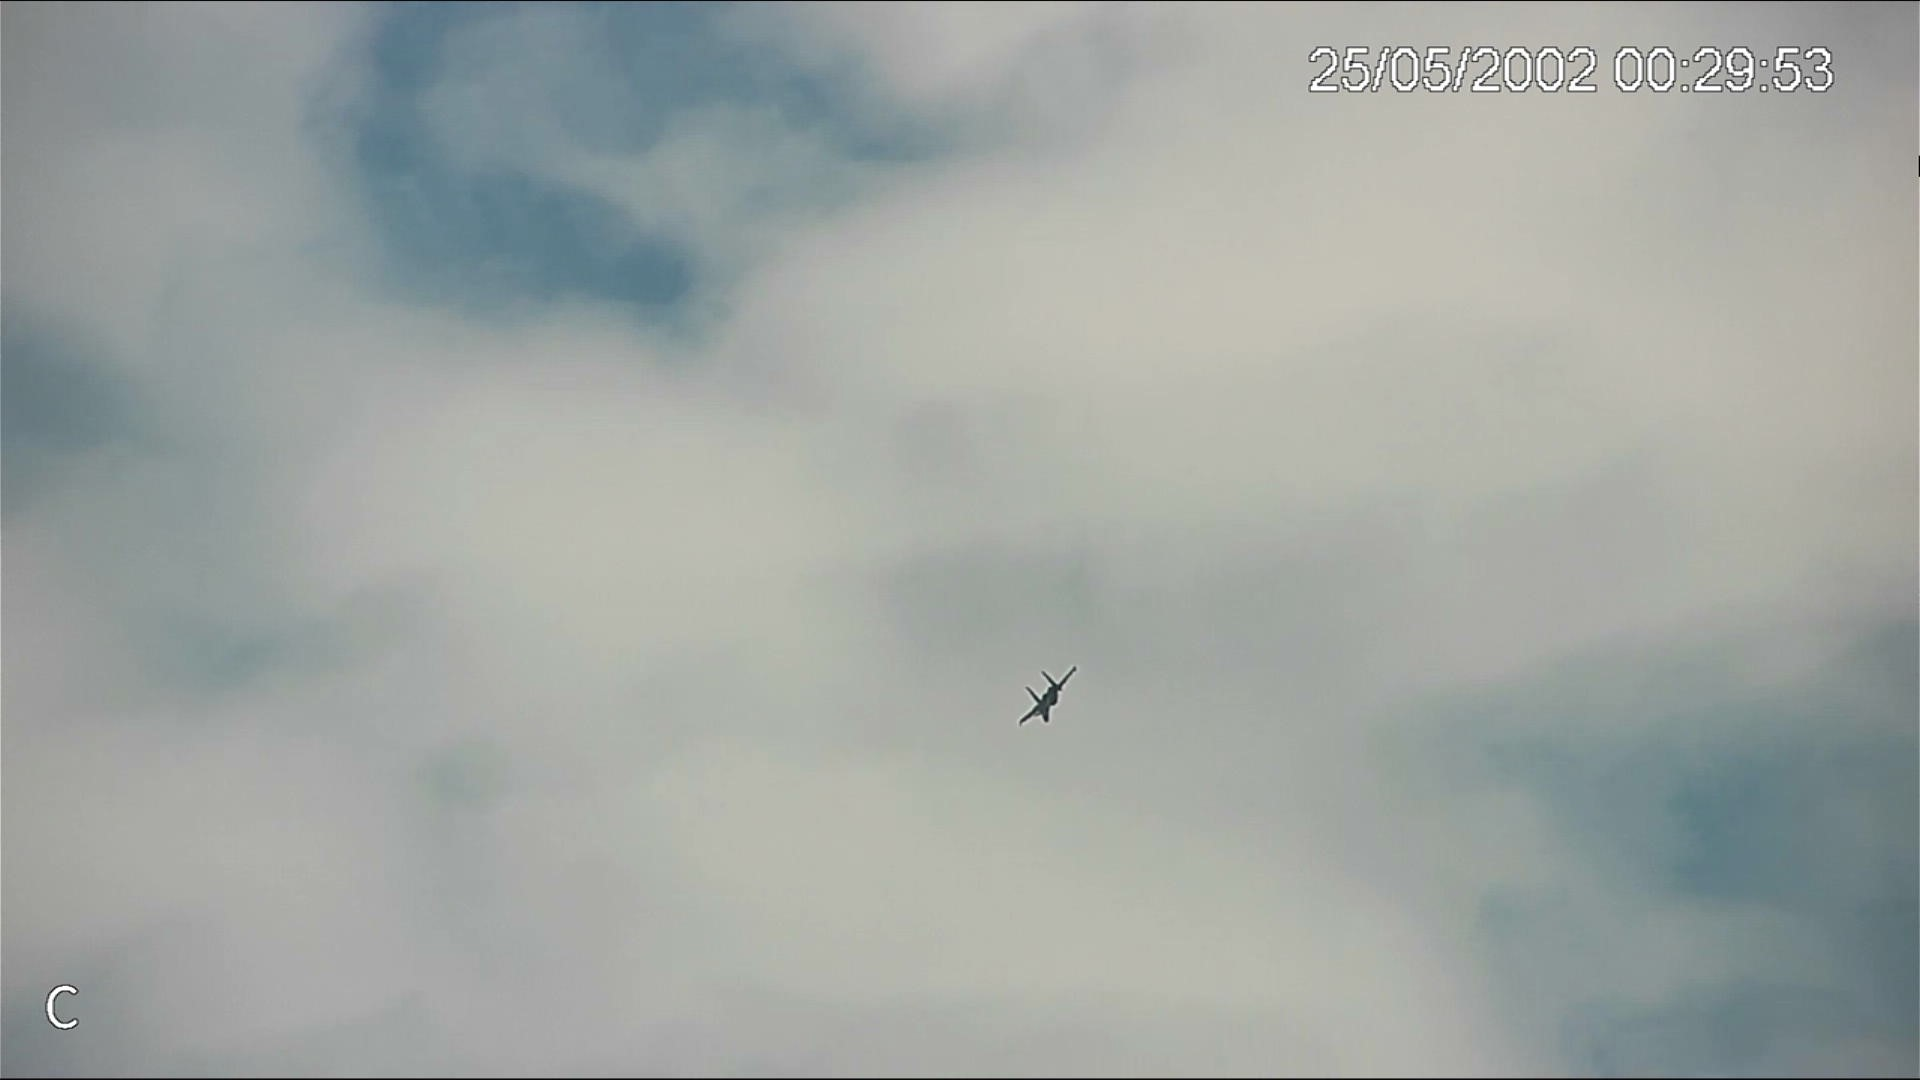SU_30: (1017, 663, 1080, 728)
